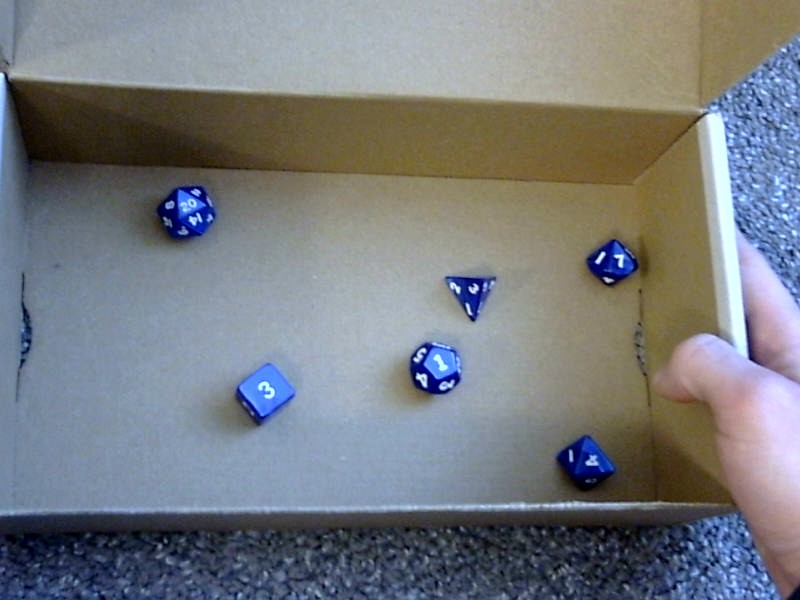d10 7: (583, 237, 641, 286)
d12 1: (405, 339, 463, 399)
d20 20: (149, 176, 216, 243)
d4 3: (440, 269, 497, 326)
d6 3: (230, 354, 296, 426)
d8 4: (550, 433, 616, 493)
